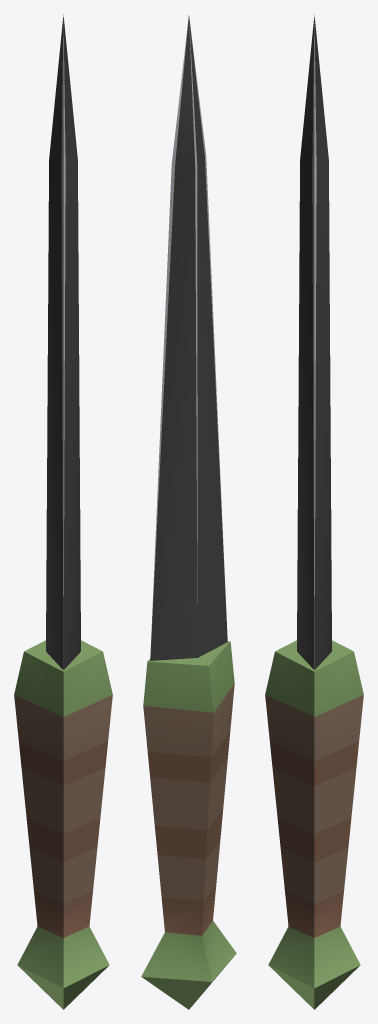
The model's file is Dagger_2.fbx.
3 renders of one model, left to right at view 1: azimuth 90°, elevation 25°; view 2: azimuth 210°, elevation 25°; view 3: azimuth 270°, elevation 25°, orthographic.
Visible parts, largest first — view 1: polySurface208; view 2: polySurface208; view 3: polySurface208.
Part boxes in pixels (x1,y1,x2,y2): polySurface208: (14,14,112,1009); polySurface208: (141,15,236,1009); polySurface208: (265,14,363,1009).
Size of the model in its own units: 15.54 by 155 by 13.89.
